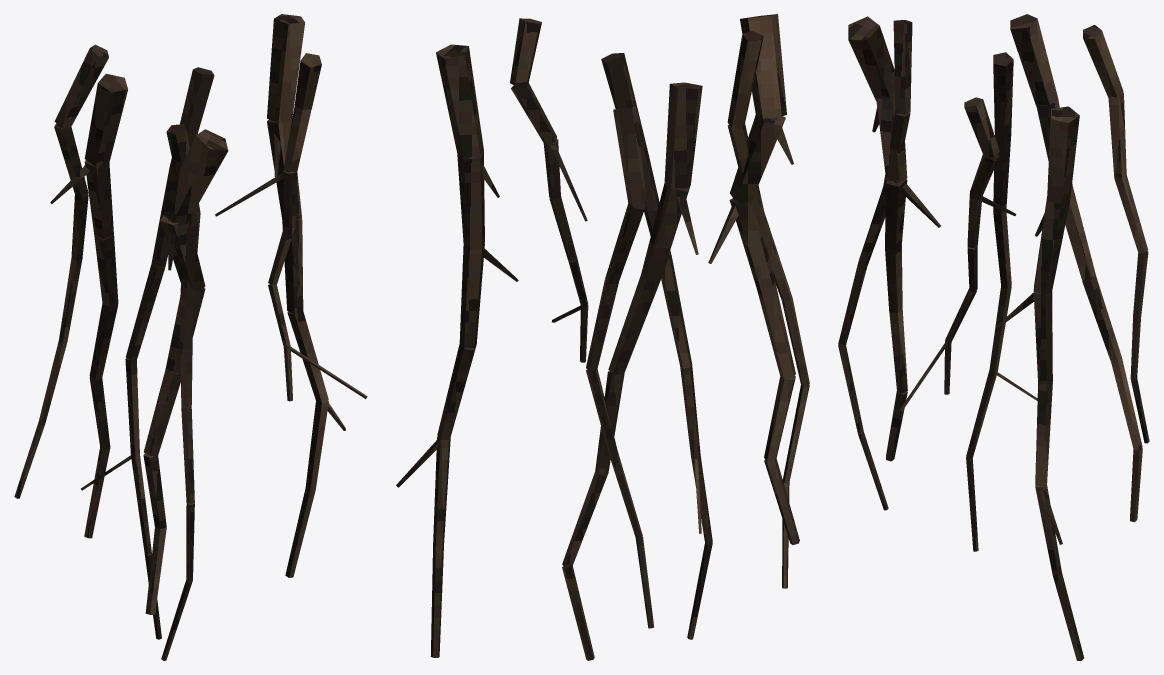
File: raices.obj
3 renders of one model, left to right at view 1: azimuth 30°, elevation 25°; view 2: azimuth 150°, elevation 25°; view 3: azimuth 270°, elevation 25°, orthographic. The views are drawn at different scales.
Visible parts, largest first — view 1: raices; view 2: raices; view 3: raices.
Part boxes in pixels (bbox=[...]): raices: bbox=[14, 14, 367, 660]; raices: bbox=[396, 14, 809, 660]; raices: bbox=[838, 14, 1149, 660].
Size of the model in its own units: 0.7876 by 1.49 by 0.7647.
Materials: 1 (1 with a texture image).
